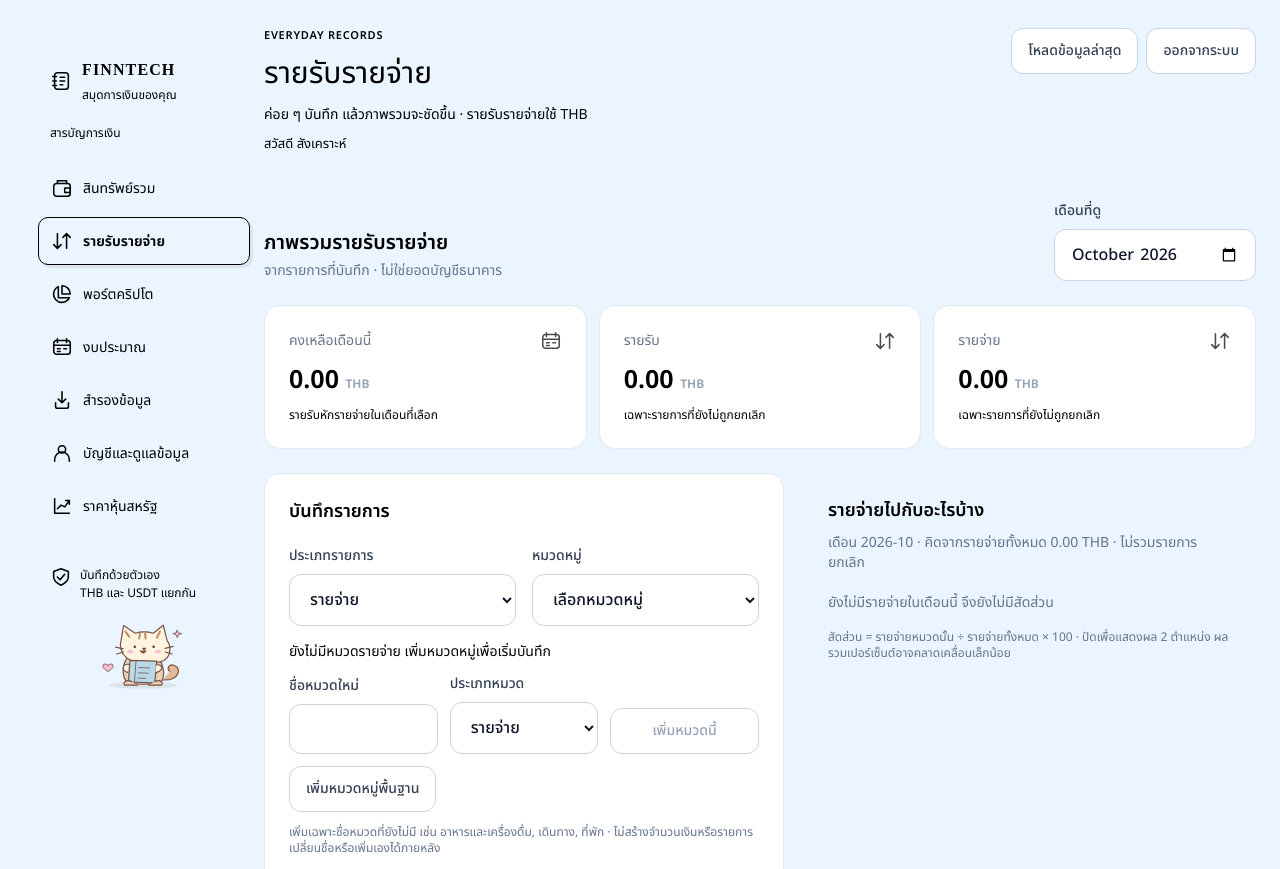
Test case: F3 category setup keeps the transaction draft › does not submit the transaction when Enter is pressed in the inline category name
The width and height of the screenshot is (1280, 869).
Type "เดินทาง" into the field labelled "ชื่อหมวดใหม่" at (363,728), box [289,704,438,754]
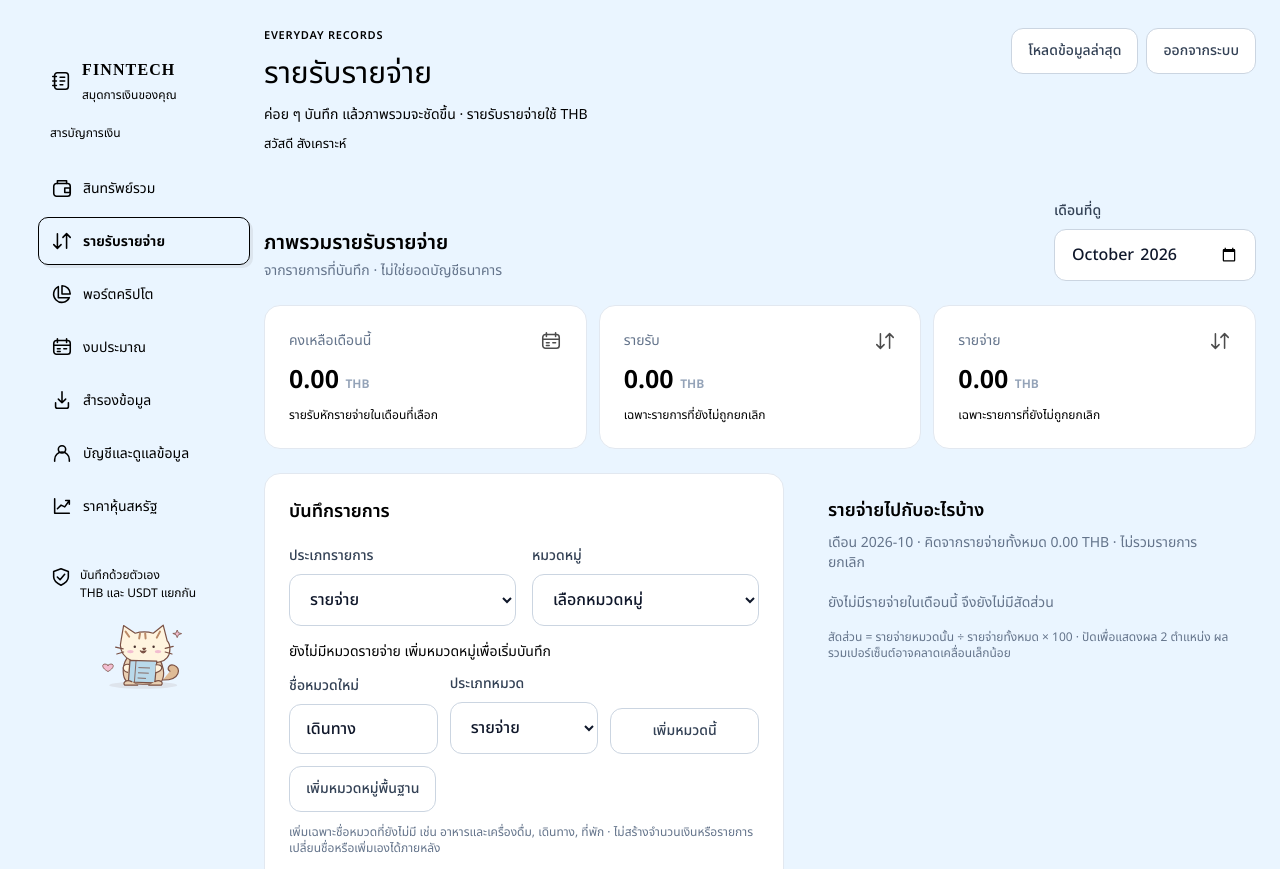
Press Enter in the field labelled "ชื่อหมวดใหม่", box [289,704,438,754]
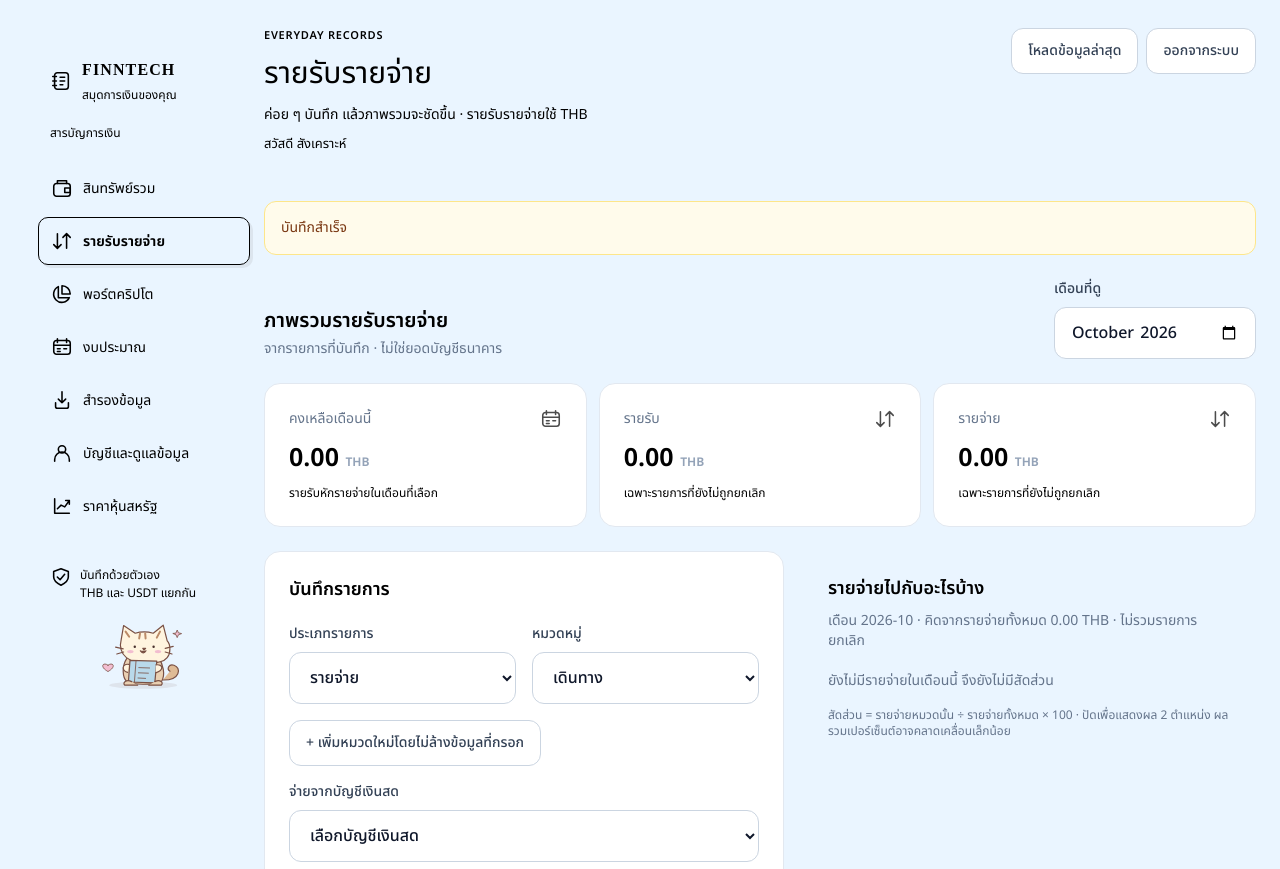
Check: the text "บันทึกสำเร็จ" is shown, box [264,200,1256,254]
